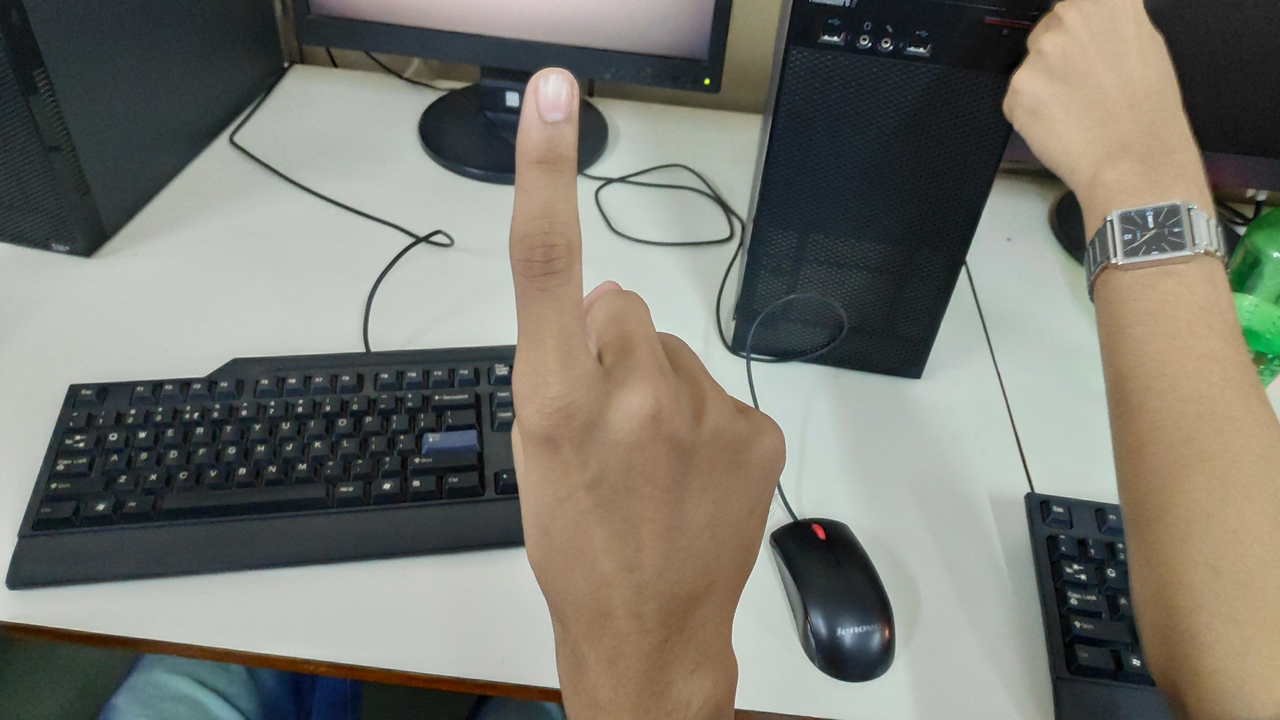fingertip: (514, 62, 588, 130)
